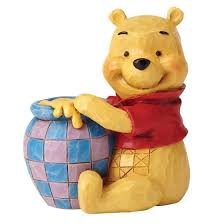Winnie: (99, 5, 189, 125)
